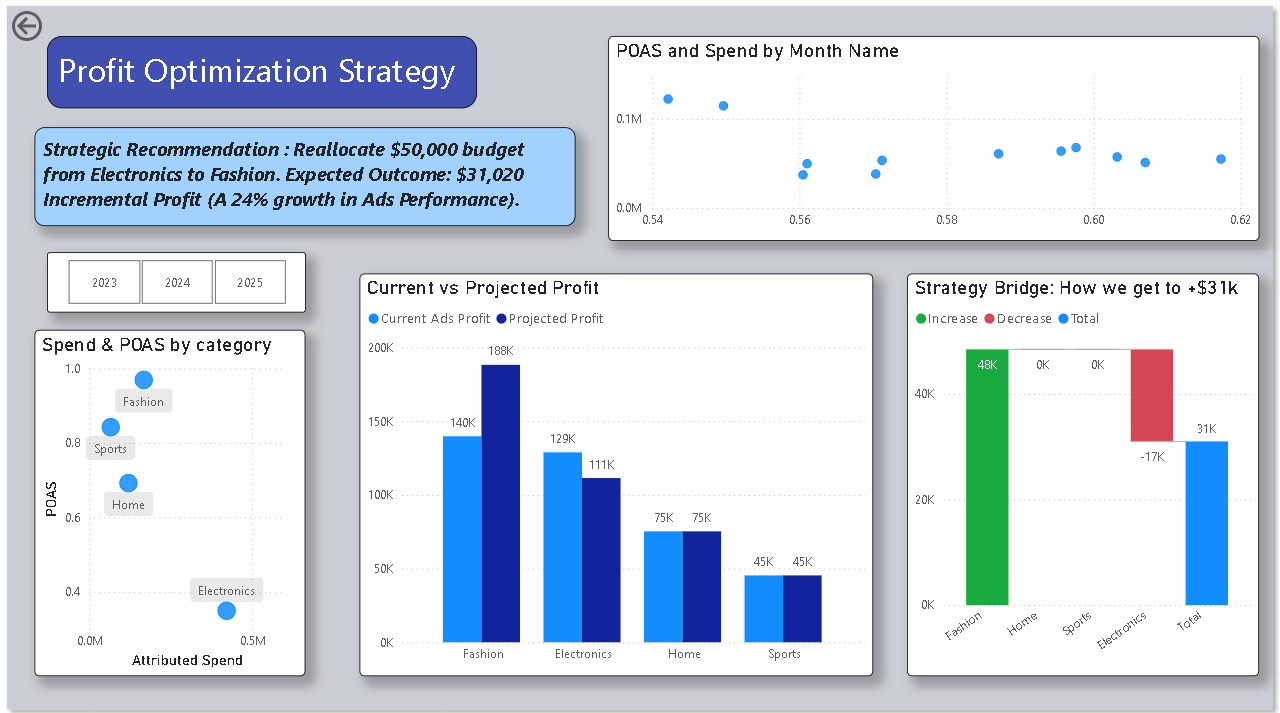

The dashboard page shown, as its layout file describes it:
{"tool":"powerbi","page":{"name":"PS-1","canvas":[1280,720],"ordinal":1},"visuals":[{"type":"textbox","box":[0,0,565.4,91.9],"z":0},{"type":"shape","box":[0,0,1280,720.3],"z":1000},{"type":"textbox","box":[49.8,39.8,427.9,72.1],"z":2000},{"type":"scatterChart","title":"Spend & POAS by category","fields":{"Category":["d_products.category"],"X":["Measures (2).Attributed Spend"],"Y":["Measures (2).POAS"]},"box":[37.3,332.1,269.9,344.6],"z":3000},{"type":"clusteredColumnChart","title":"Current vs Projected Profit","fields":{"Category":["d_products.category"],"Y":["Measures (2).Current Ads Profit","Measures (2).Projected Profit"]},"box":[360.7,276.2,511.3,400.6],"z":4000},{"type":"textbox","box":[37.3,130.6,538.6,98.3],"z":5000},{"type":"scatterChart","title":"POAS and Spend by Month Name","fields":{"Category":["v_dim_date.Month Name"],"X":["Measures (2).POAS"],"Y":["Measures (2).Attributed Spend"]},"box":[608.3,39.8,648.1,204],"z":6000},{"type":"slicer","fields":{"Values":["v_dim_date.Date.Variation.Date Hierarchy.Year1"]},"box":[49.8,255,257.5,59.7],"z":7000},{"type":"waterfallChart","title":"Strategy Bridge: How we get to +$31k","fields":{"Category":["d_products.category"],"Y":["Measures (2).Delta Profit"]},"box":[905.6,276.2,350.8,400.6],"z":8000},{"type":"actionButton","box":[10,10,39.8,39.8],"z":9000}]}

Visuals, with their boxes in screenshot pixels (x1, y1, x2, y2), scaled from the page's 1280x720 canvas onto the 1280x713 screenshot:
textbox: Rect(0, 0, 565, 91)
shape: Rect(0, 0, 1279, 712)
textbox: Rect(50, 39, 478, 111)
"Spend & POAS by category" scatterChart: Rect(37, 329, 307, 670)
"Current vs Projected Profit" clusteredColumnChart: Rect(361, 274, 872, 670)
textbox: Rect(37, 129, 576, 227)
"POAS and Spend by Month Name" scatterChart: Rect(608, 39, 1256, 241)
slicer - v_dim_date.Date.Variation.Date Hierarchy.Year1: Rect(50, 253, 307, 312)
"Strategy Bridge: How we get to +$31k" waterfallChart: Rect(906, 274, 1256, 670)
actionButton: Rect(10, 10, 50, 49)
